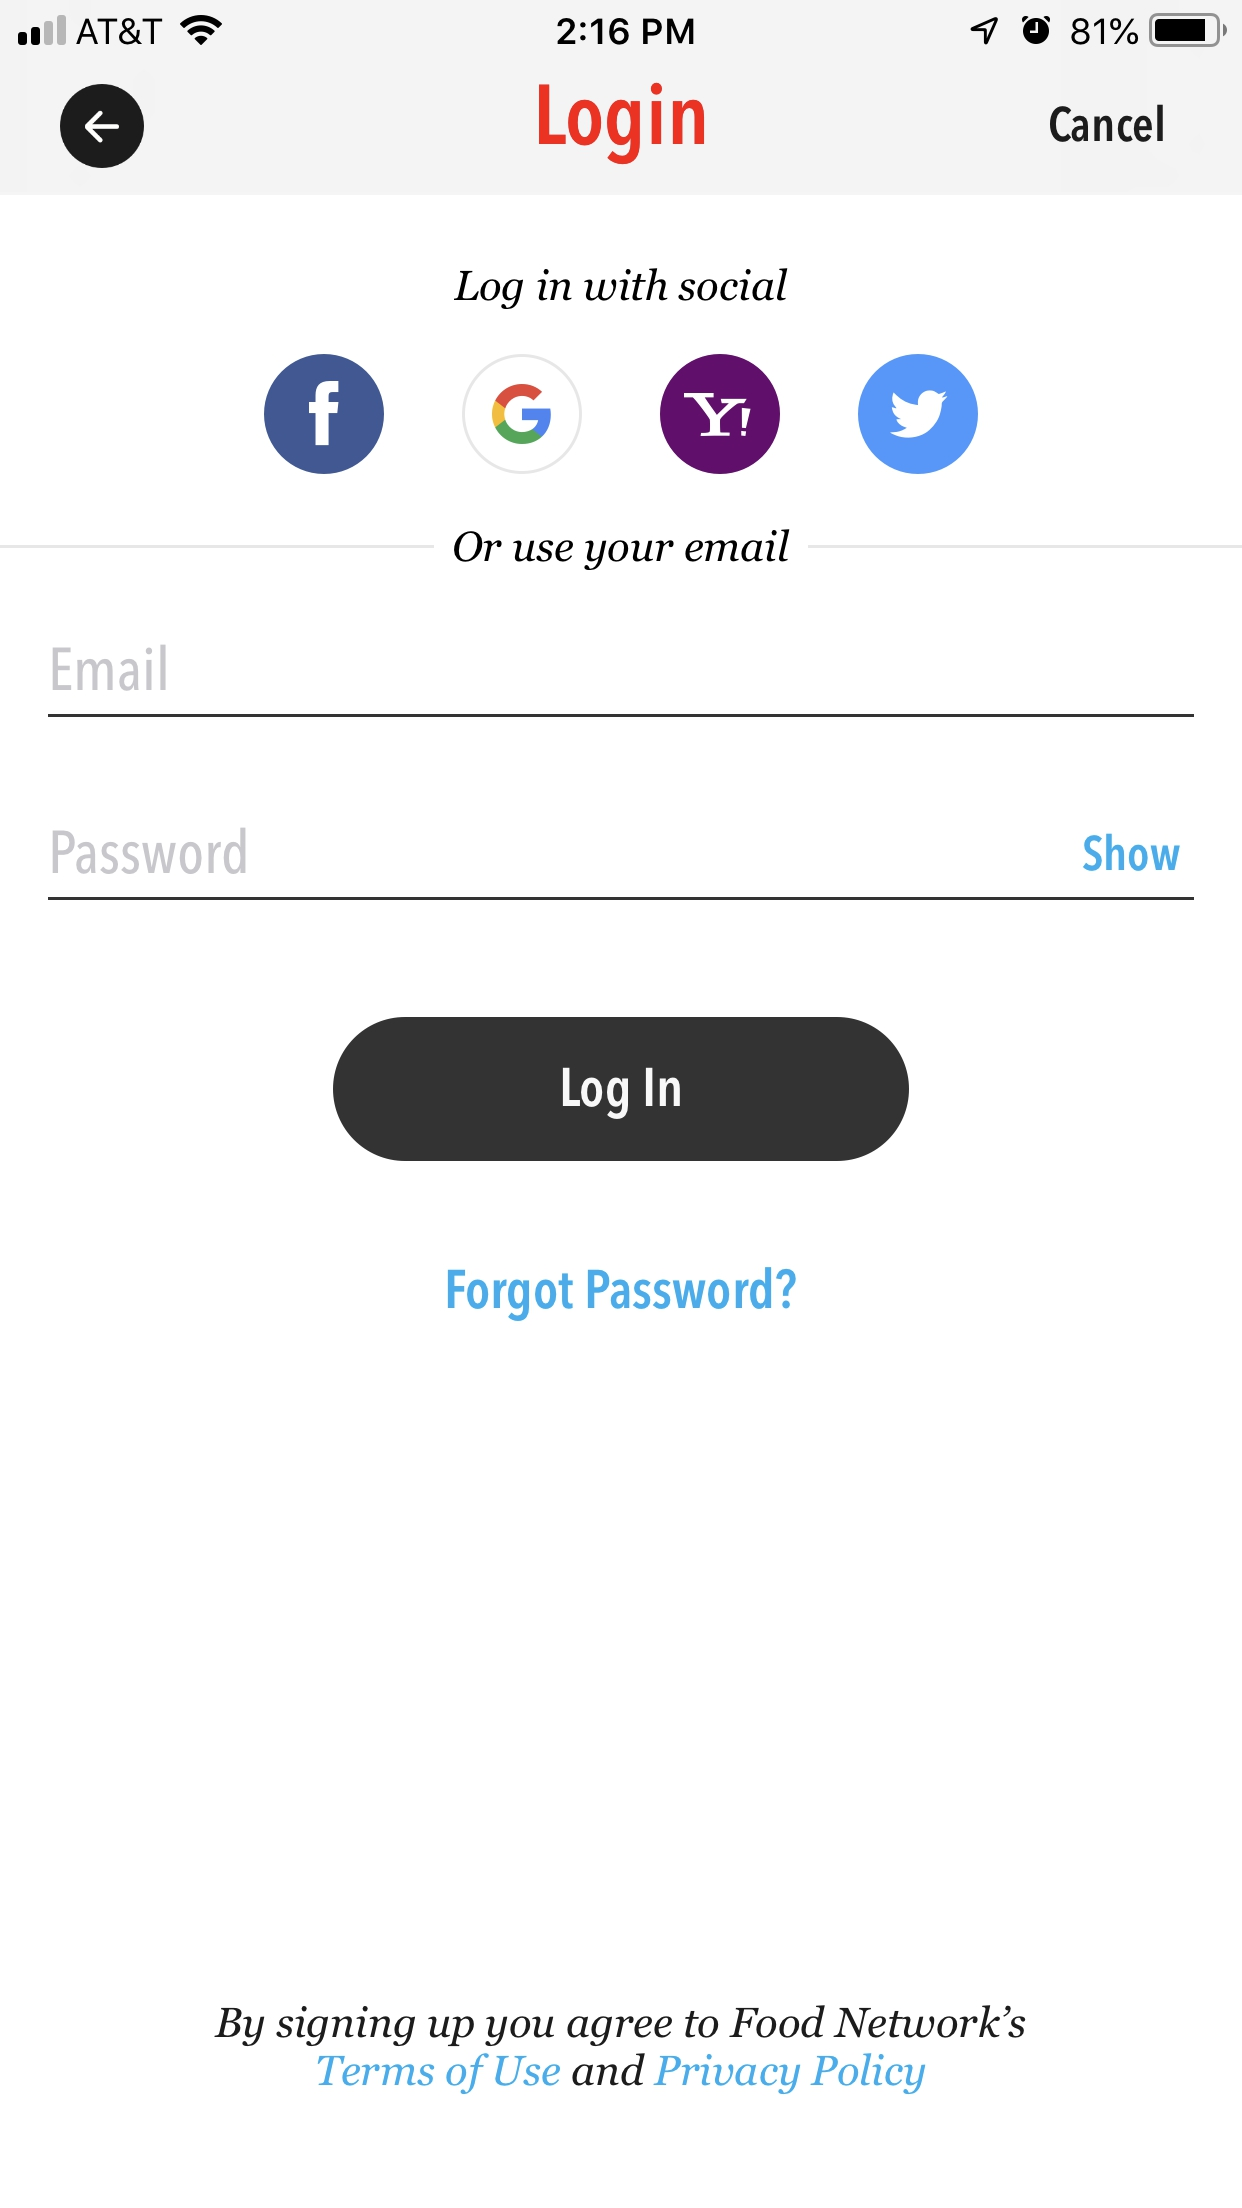EditText: (49, 645, 1195, 719), (49, 826, 1195, 901)
Icon: (857, 353, 980, 476), (264, 353, 387, 476), (461, 353, 582, 476), (61, 85, 146, 170)
Image: (660, 353, 781, 476)
Text: (212, 2003, 1027, 2096), (447, 1266, 798, 1322), (453, 529, 792, 572), (453, 268, 789, 311), (538, 82, 705, 165), (53, 826, 249, 877), (53, 645, 168, 692), (1049, 105, 1165, 144), (1081, 834, 1181, 873)
TextButton: (334, 1016, 910, 1162)
UpperTaskBar: (2, 2, 1242, 49)
